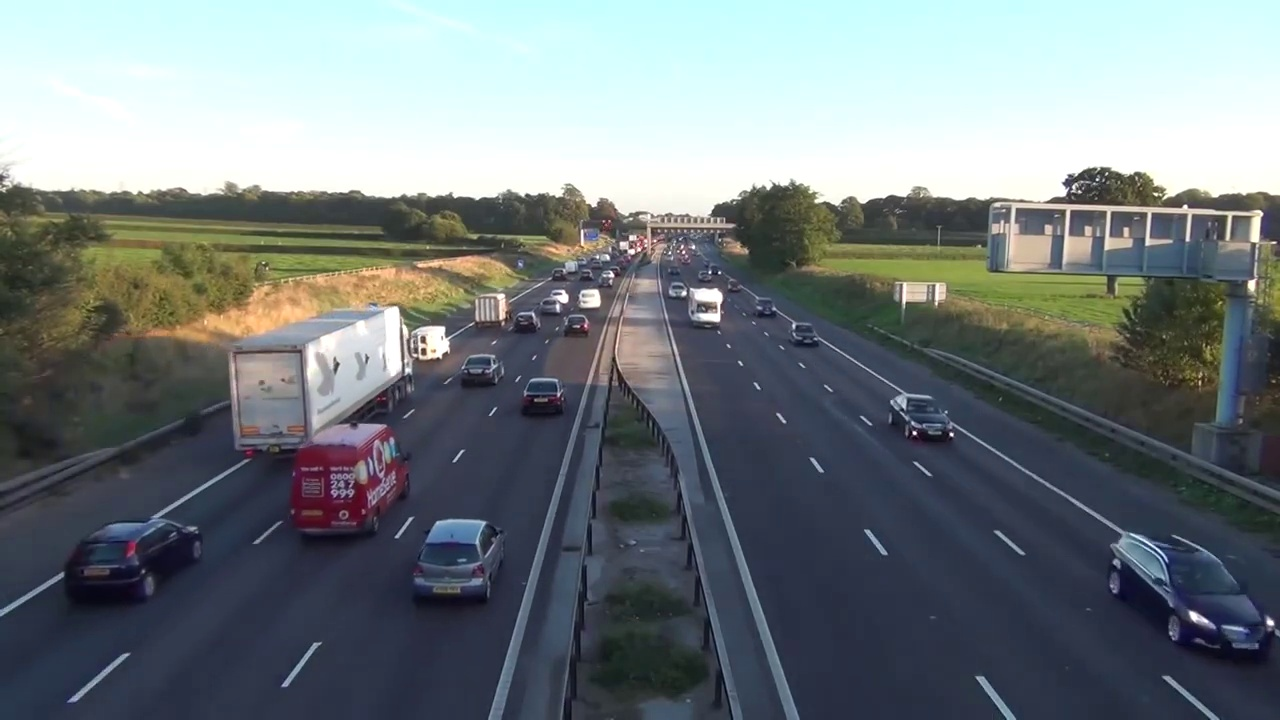bus: (1106, 532, 1274, 668), (63, 518, 200, 603), (413, 519, 502, 600), (888, 392, 958, 443), (521, 377, 566, 418), (461, 351, 507, 386), (789, 322, 820, 350), (514, 311, 542, 334), (753, 297, 779, 318), (564, 315, 591, 334), (580, 289, 602, 312), (541, 301, 566, 316), (548, 287, 571, 302), (670, 282, 687, 297)
car: (228, 308, 418, 455), (473, 291, 509, 325)
lorry: (413, 325, 452, 362)
minibus: (288, 425, 420, 533), (687, 287, 723, 331)
